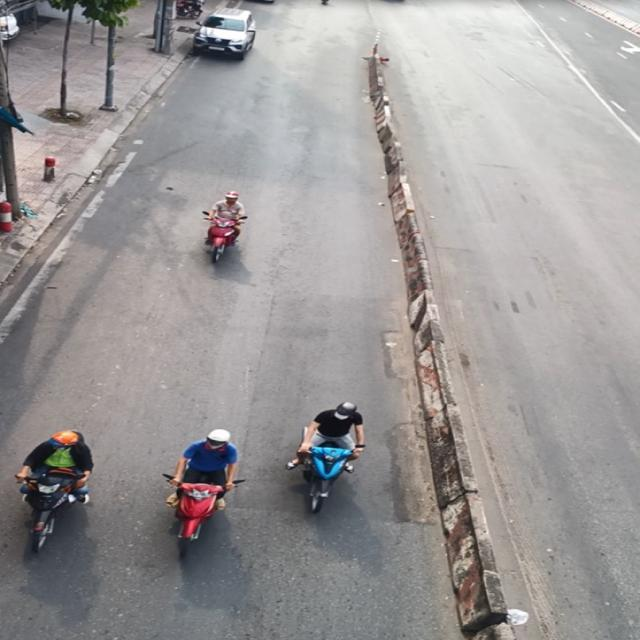car: (201, 0, 255, 62)
motorcycle: (25, 470, 72, 556), (172, 476, 222, 547), (304, 441, 349, 512), (209, 211, 238, 264)
person: (182, 423, 237, 494), (304, 388, 368, 449), (38, 411, 89, 478), (215, 184, 257, 218)
